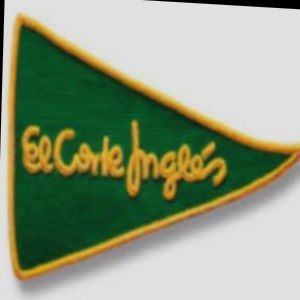corte_ingles: (228, 73, 248, 192)
